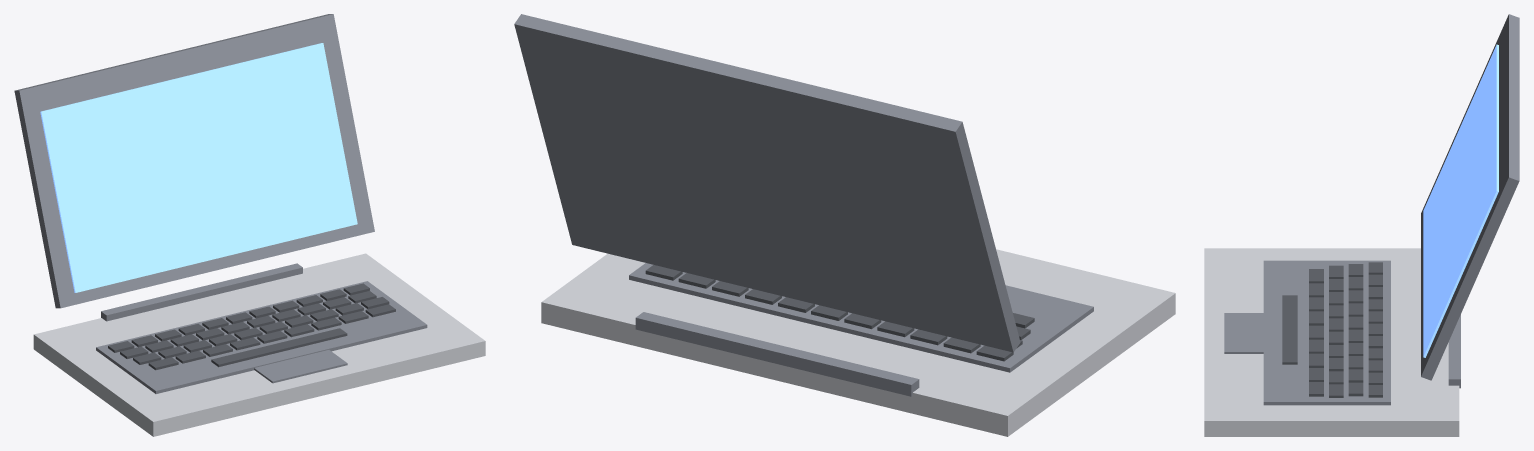
The model's file is simple-laptop.gltf.
The picture shows the model from 3 angles, left to right: view 1: azimuth 30°, elevation 25°; view 2: azimuth 150°, elevation 25°; view 3: azimuth 270°, elevation 25°; orthographic projection. The views are drawn at different scales.
Visible parts, largest first — view 1: ScreenGlass, BaseShell, ScreenFrame, KeyboardDeck, HingeBar, Trackpad, Spacebar; view 2: ScreenFrame, BaseShell, KeyboardDeck, HingeBar; view 3: BaseShell, ScreenGlass, KeyboardDeck, ScreenFrame, Trackpad, Spacebar, HingeBar.
Part boxes in pixels (box(x1,y1,x2,y2)): ScreenGlass: box(40, 43, 357, 292); BaseShell: box(33, 253, 485, 436); ScreenFrame: box(14, 14, 374, 308); KeyboardDeck: box(96, 281, 427, 393); HingeBar: box(101, 263, 302, 321); Trackpad: box(254, 350, 347, 383); Spacebar: box(211, 328, 347, 367); ScreenFrame: box(514, 14, 1020, 352); BaseShell: box(541, 249, 1175, 436); KeyboardDeck: box(629, 263, 1093, 372); HingeBar: box(635, 312, 919, 396); BaseShell: box(1204, 248, 1459, 436); ScreenGlass: box(1423, 44, 1498, 357); KeyboardDeck: box(1263, 260, 1390, 405); ScreenFrame: box(1421, 14, 1519, 380); Trackpad: box(1224, 313, 1263, 353); Spacebar: box(1282, 295, 1297, 364); HingeBar: box(1448, 314, 1460, 388).
Size of the model in its own units: 1.86 by 1.28 by 1.43.
